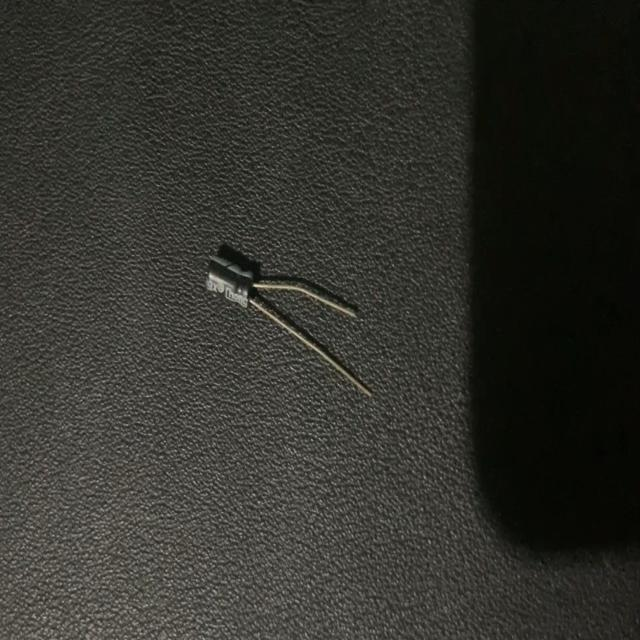capacitor: (204, 256, 373, 400)
